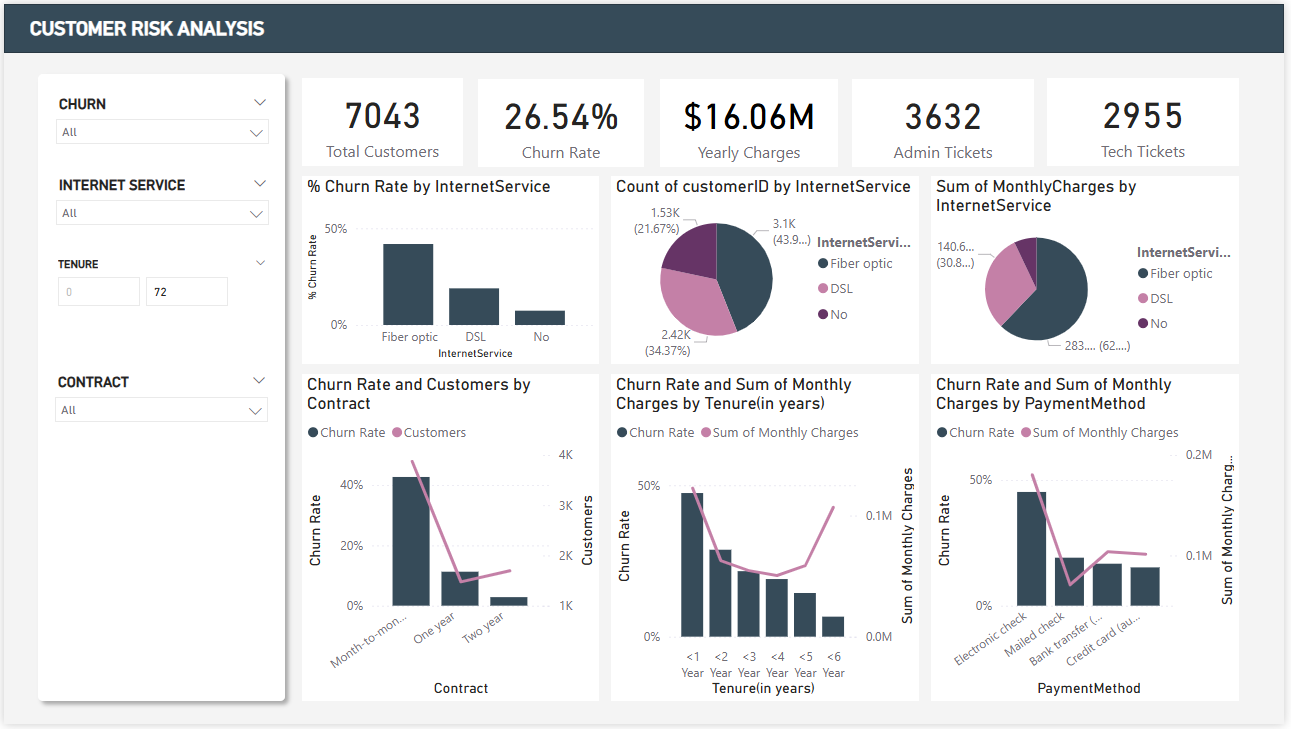

Layout of this report page (visuals, bound fields, positions):
{"tool":"powerbi","page":{"name":"Customer Risk Analysis","canvas":[1280,720],"ordinal":1},"visuals":[{"type":"shape","box":[0,0,1280.4,48.8],"z":0},{"type":"textbox","box":[21,8,438,33],"z":1000},{"type":"shape","box":[25,61,265,645],"z":2000},{"type":"slicer","fields":{"Values":["Churn.Churn"]},"box":[42,82,233,81],"z":3000},{"type":"slicer","fields":{"Values":["Churn.InternetService"]},"box":[42,163,233,81],"z":4000},{"type":"slicer","fields":{"Values":["Churn.tenure"]},"box":[41,244,233,97],"z":5000},{"type":"slicer","fields":{"Values":["Churn.Contract"]},"box":[41,360,233,81],"z":6000},{"type":"card","fields":{"Values":["Min(01 Churn-Dataset.customerID)"]},"box":[298,74,161,88],"z":7000},{"type":"card","fields":{"Values":["Churn.% Churn Rate"]},"box":[474,75,166,88],"z":8000},{"type":"card","fields":{"Values":["Sum(Churn.TotalCharges)"]},"box":[656,75,178,88],"z":9000},{"type":"card","fields":{"Values":["Sum(Churn.numAdminTickets)"]},"box":[848,75,182,88],"z":10000},{"type":"card","fields":{"Values":["Sum(Churn.numTechTickets)"]},"box":[1043,74,192,88],"z":11000},{"type":"columnChart","fields":{"Y":["Churn.% Churn Rate"],"Category":["Churn.InternetService"]},"box":[298,172,297,188],"z":12000},{"type":"pieChart","fields":{"Y":["CountNonNull(Churn.customerID)"],"Category":["Churn.InternetService"]},"box":[607,172,308,188],"z":13000},{"type":"pieChart","fields":{"Category":["Churn.InternetService"],"Y":["Sum(Churn.MonthlyCharges)"]},"box":[927,172,308,188],"z":14000},{"type":"lineStackedColumnComboChart","fields":{"Y2":["CountNonNull(Churn.customerID)"],"Y":["Churn.% Churn Rate"],"Category":["Churn.Contract"]},"box":[298,370,297,327],"z":15000},{"type":"lineStackedColumnComboChart","fields":{"Y":["Churn.% Churn Rate"],"Y2":["Sum(Churn.MonthlyCharges)"],"Category":["Churn.Tenure(in years)"]},"box":[607,370,308,327],"z":16000},{"type":"lineStackedColumnComboChart","fields":{"Y":["Churn.% Churn Rate"],"Y2":["Sum(Churn.MonthlyCharges)"],"Category":["Churn.PaymentMethod"]},"box":[927,370,308,327],"z":17000}]}

Visuals, with their boxes in screenshot pixels (x1, y1, x2, y2), scaled from the page's 1280x720 canvas onto the 1291x729 screenshot:
shape: crop(0, 0, 1290, 49)
textbox: crop(21, 8, 463, 42)
shape: crop(25, 62, 292, 715)
slicer - Churn.Churn: crop(42, 83, 277, 165)
slicer - Churn.InternetService: crop(42, 165, 277, 247)
slicer - Churn.tenure: crop(41, 247, 276, 345)
slicer - Churn.Contract: crop(41, 364, 276, 447)
card - Min(01 Churn-Dataset.customerID): crop(301, 75, 463, 164)
card - Churn.% Churn Rate: crop(478, 76, 646, 165)
card - Sum(Churn.TotalCharges): crop(662, 76, 841, 165)
card - Sum(Churn.numAdminTickets): crop(855, 76, 1039, 165)
card - Sum(Churn.numTechTickets): crop(1052, 75, 1246, 164)
columnChart - Churn.% Churn Rate x Churn.InternetService: crop(301, 174, 600, 364)
pieChart - CountNonNull(Churn.customerID) x Churn.InternetService: crop(612, 174, 923, 364)
pieChart - Churn.InternetService x Sum(Churn.MonthlyCharges): crop(935, 174, 1246, 364)
lineStackedColumnComboChart - CountNonNull(Churn.customerID) x Churn.% Churn Rate: crop(301, 375, 600, 706)
lineStackedColumnComboChart - Churn.% Churn Rate x Sum(Churn.MonthlyCharges): crop(612, 375, 923, 706)
lineStackedColumnComboChart - Churn.% Churn Rate x Sum(Churn.MonthlyCharges): crop(935, 375, 1246, 706)
